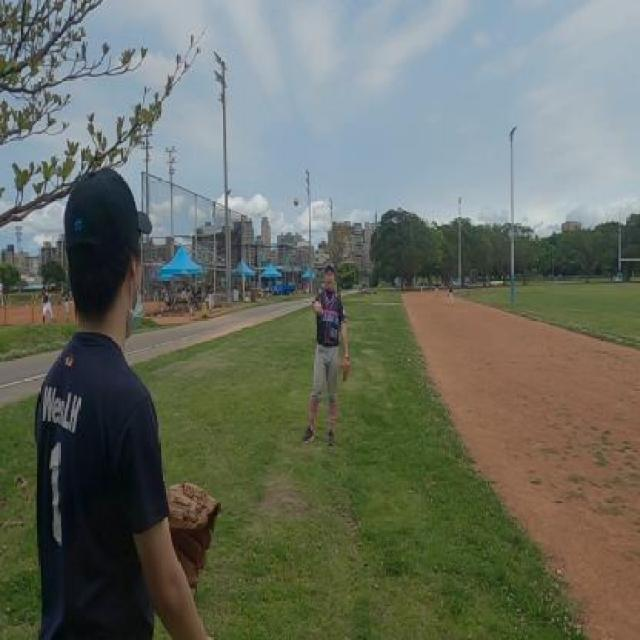baseball: (293, 197, 299, 206)
